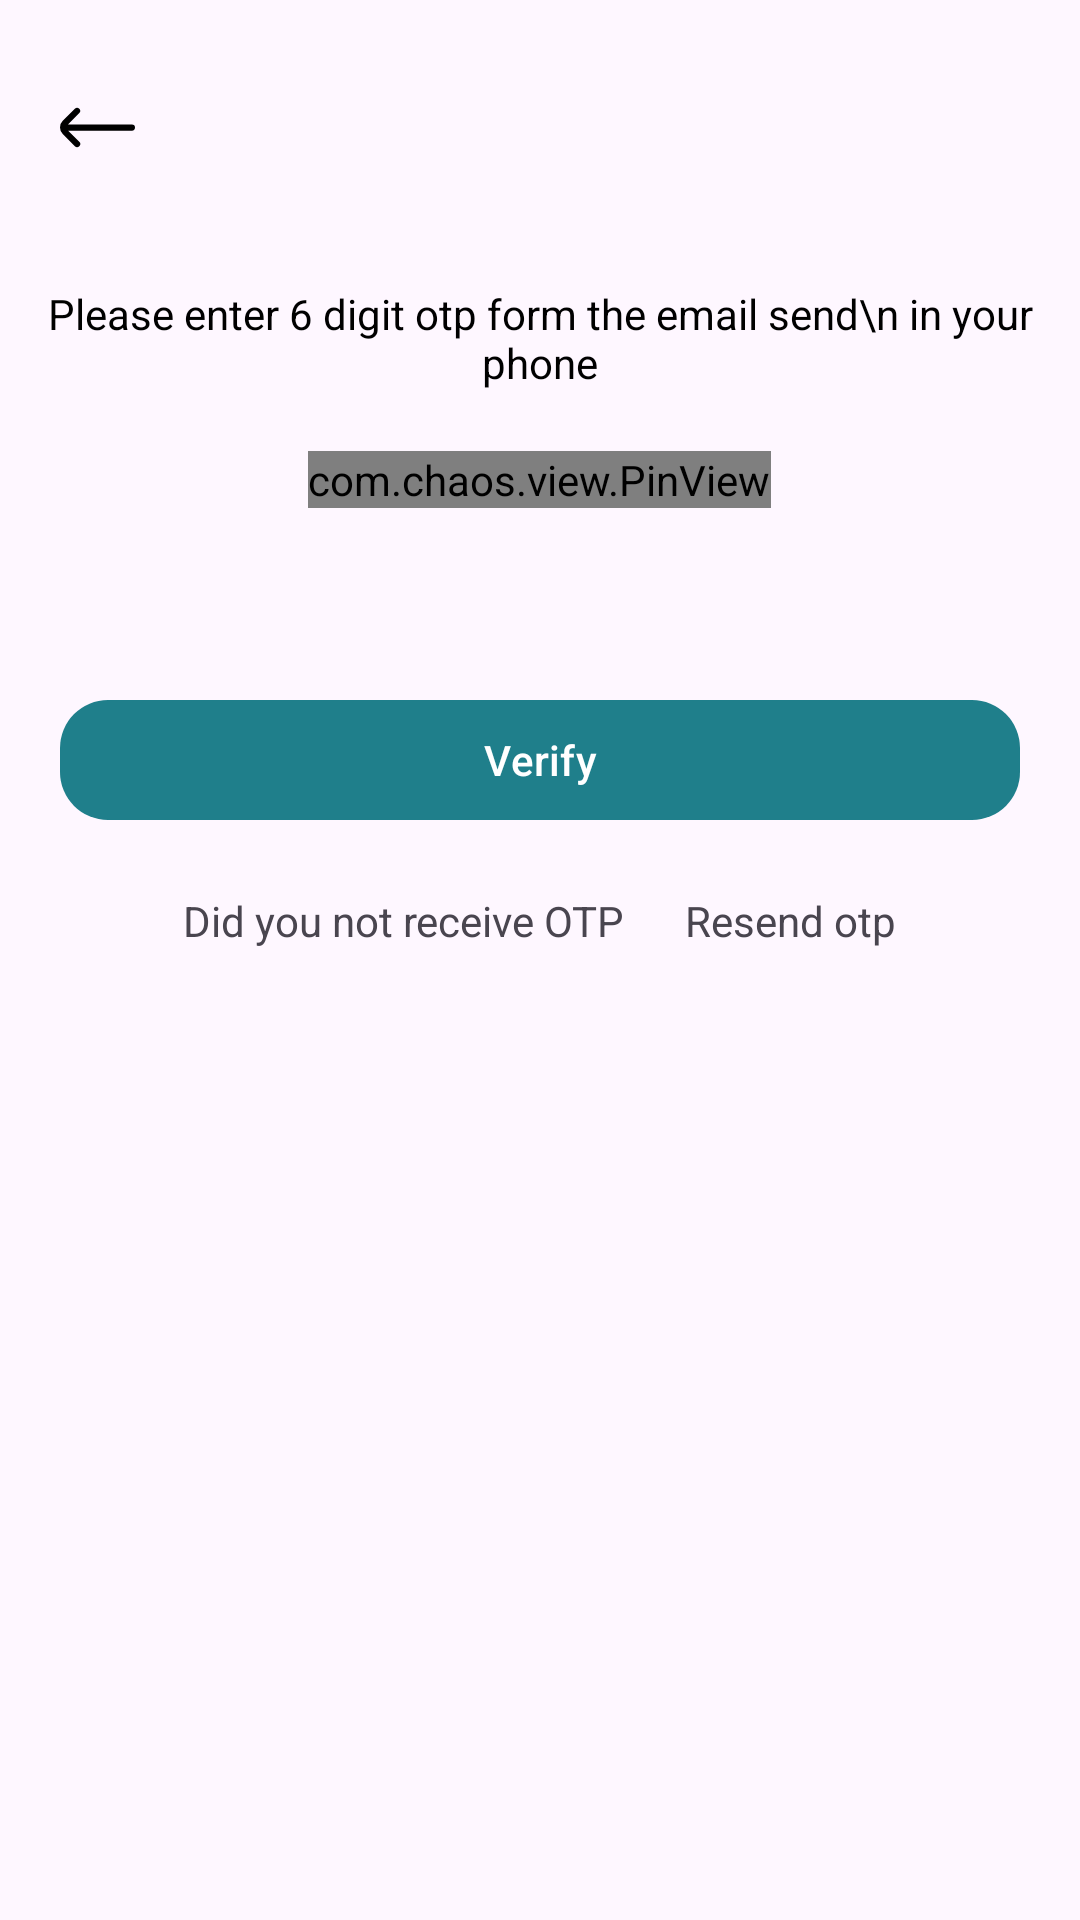

Where to tap for icons on this 1080px x 1920px app screen, as [x,y]:
arrow left: [97,127]
